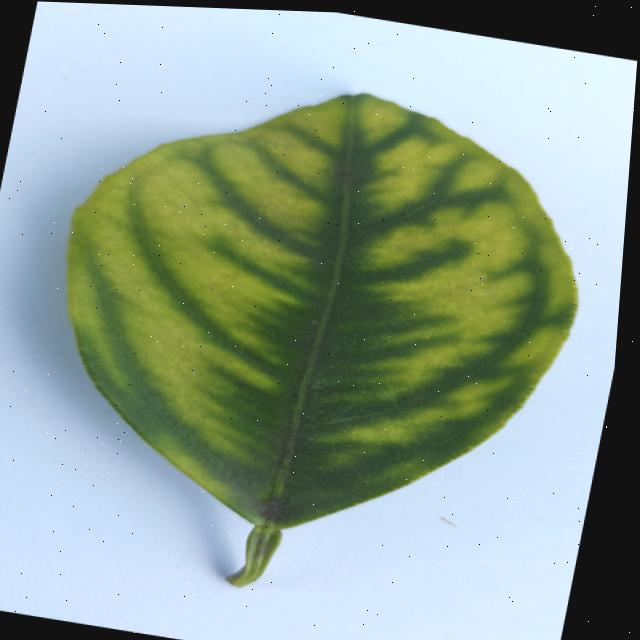greening: (66, 94, 576, 585)
